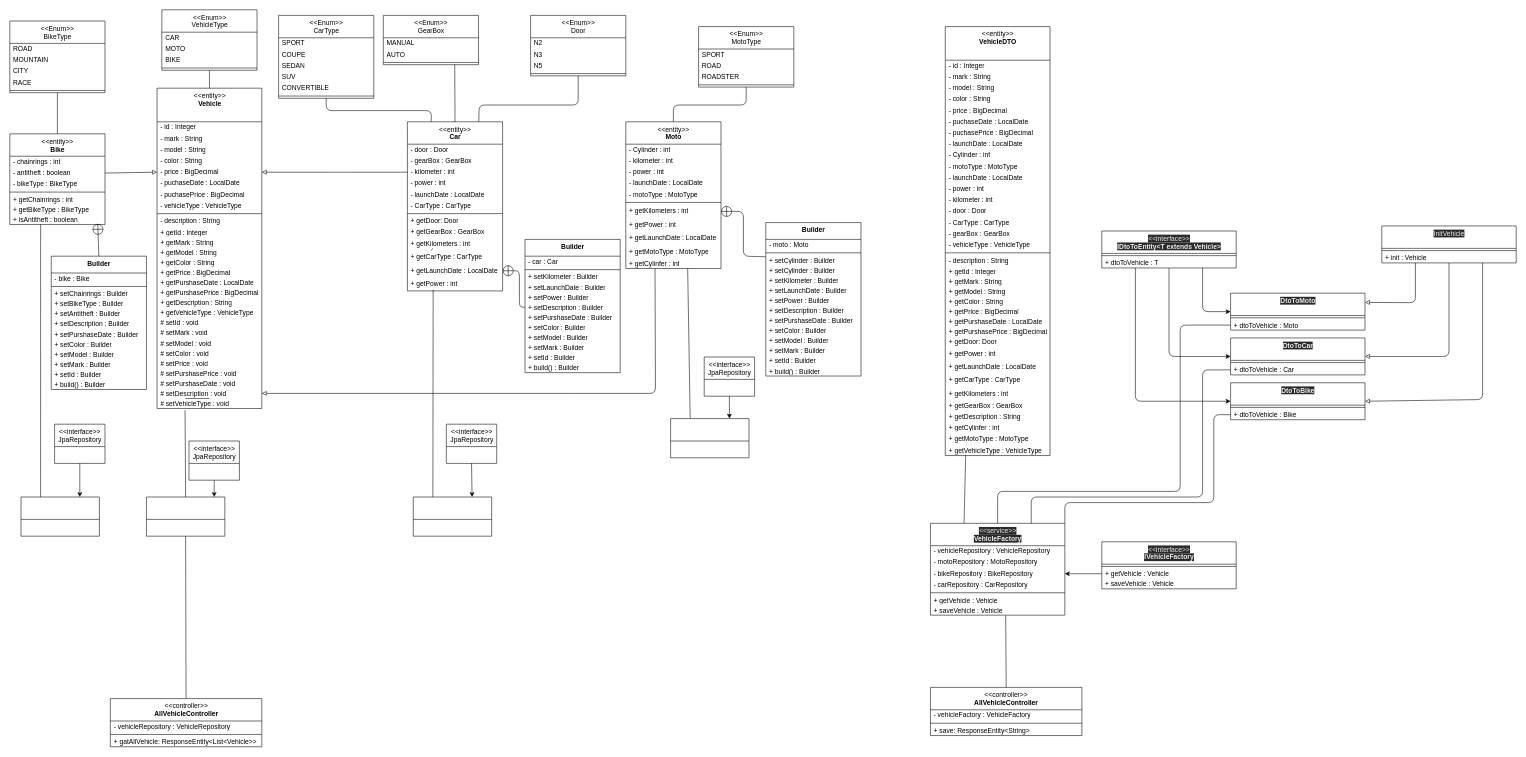
The diagram is 1526 pixels wide and 757 high, and some of its shapes have lost their labels. Each missing label, with the centre of its shape:
<<Repository>> CarRepo: the point at 452,516
<<Repository>> MotoRepo: the point at 709,438
<<Repository>> VehiculeRepo: the point at 185,516
<<Repository>> VeloRepo: the point at 59,516
